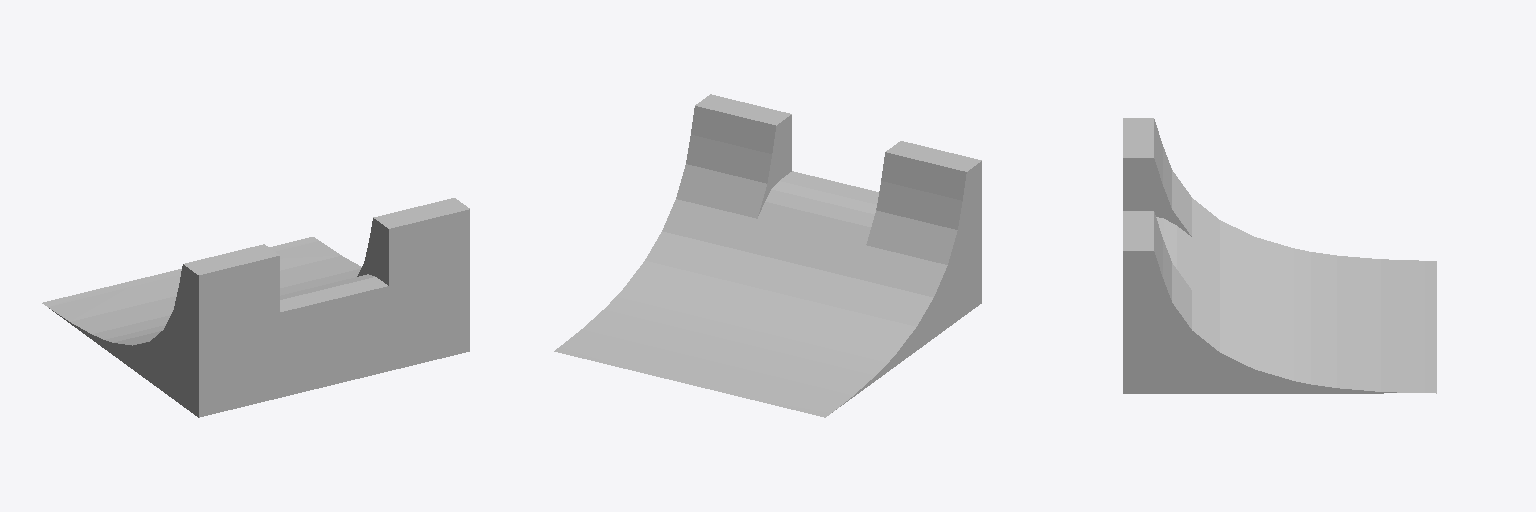
The model's file is Quater_LRG_Gap.obj.
The picture shows the model from 3 angles: view 1: azimuth 30°, elevation 25°; view 2: azimuth 150°, elevation 25°; view 3: azimuth 270°, elevation 25°; orthographic projection.
Parts seen in each view (by area): view 1: Quater_LRG_Gap; view 2: Quater_LRG_Gap; view 3: Quater_LRG_Gap.
Part boxes in pixels (bbox=[...]): Quater_LRG_Gap: bbox=[42, 198, 469, 417]; Quater_LRG_Gap: bbox=[554, 94, 981, 417]; Quater_LRG_Gap: bbox=[1123, 118, 1436, 393].
Size of the model in its own units: 20 by 10 by 20.